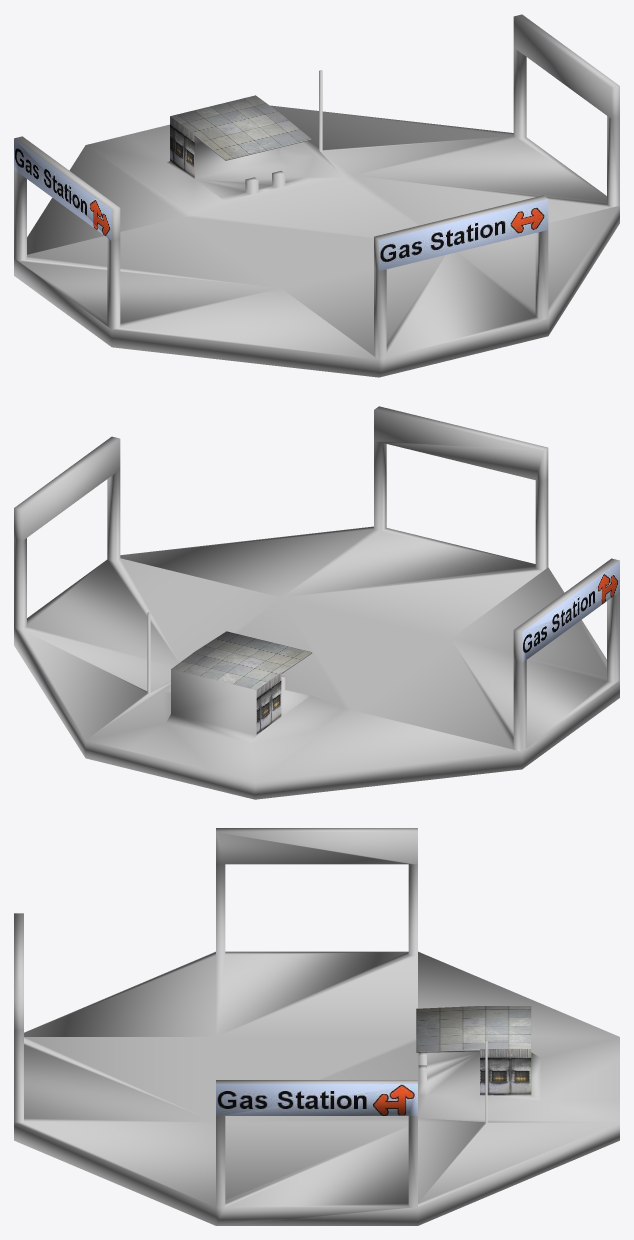
The model's file is gas_station.obj.
The picture shows the model from 3 angles, top to bottom: view 1: azimuth 30°, elevation 25°; view 2: azimuth 150°, elevation 25°; view 3: azimuth 270°, elevation 25°; orthographic projection. The views are drawn at different scales.
Parts seen in each view (by area): view 1: cube1_gas_warning, cube1_gas_straight, cube1_gas_crossing, cube1_gas_sign_outer, cube1_gas_roof, cube1_gas_sign1, cube1_gas_front, cube1_gas_side; view 2: cube1_gas_warning, cube1_gas_straight, cube1_gas_crossing, cube1_gas_sign3, cube1_gas_roof, cube1_gas_front, cube1_gas_sign1, cube1_gas_sign_outer, cube1_gas_side; view 3: cube1_gas_warning, cube1_gas_straight, cube1_gas_crossing, cube1_gas_sign2, cube1_gas_sign_outer, cube1_gas_roof, cube1_gas_side.
Boxes of the visible parts, bbox=[...] form: cube1_gas_warning: bbox=[14, 14, 619, 377]; cube1_gas_straight: bbox=[19, 136, 610, 357]; cube1_gas_crossing: bbox=[184, 175, 420, 288]; cube1_gas_sign_outer: bbox=[14, 138, 548, 270]; cube1_gas_roof: bbox=[170, 95, 310, 159]; cube1_gas_sign1: bbox=[513, 17, 611, 118]; cube1_gas_front: bbox=[194, 137, 280, 178]; cube1_gas_side: bbox=[170, 116, 194, 178]; cube1_gas_warning: bbox=[14, 406, 619, 799]; cube1_gas_straight: bbox=[22, 528, 614, 749]; cube1_gas_crossing: bbox=[233, 597, 450, 710]; cube1_gas_sign3: bbox=[374, 410, 543, 481]; cube1_gas_roof: bbox=[171, 631, 311, 689]; cube1_gas_front: bbox=[171, 669, 256, 734]; cube1_gas_sign1: bbox=[22, 439, 120, 540]; cube1_gas_sign_outer: bbox=[522, 561, 619, 662]; cube1_gas_side: bbox=[256, 672, 281, 734]; cube1_gas_warning: bbox=[14, 828, 619, 1225]; cube1_gas_straight: bbox=[24, 951, 479, 1207]; cube1_gas_crossing: bbox=[216, 1037, 417, 1122]; cube1_gas_sign2: bbox=[216, 832, 417, 864]; cube1_gas_sign_outer: bbox=[216, 1084, 417, 1115]; cube1_gas_roof: bbox=[416, 1006, 531, 1051]; cube1_gas_side: bbox=[480, 1049, 531, 1095].
Bounding box in the file's own units: 6 × 1.55 × 6.
